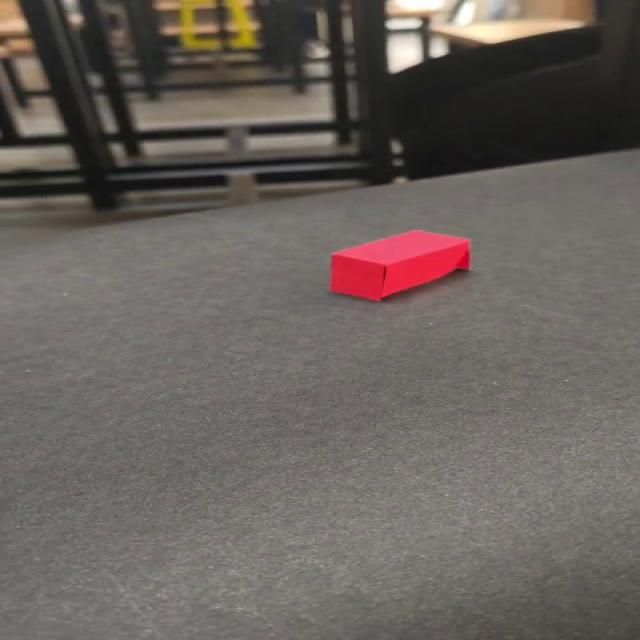red block: (328, 229, 472, 301)
